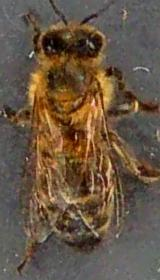varroa_mite: (62, 126, 86, 146)
